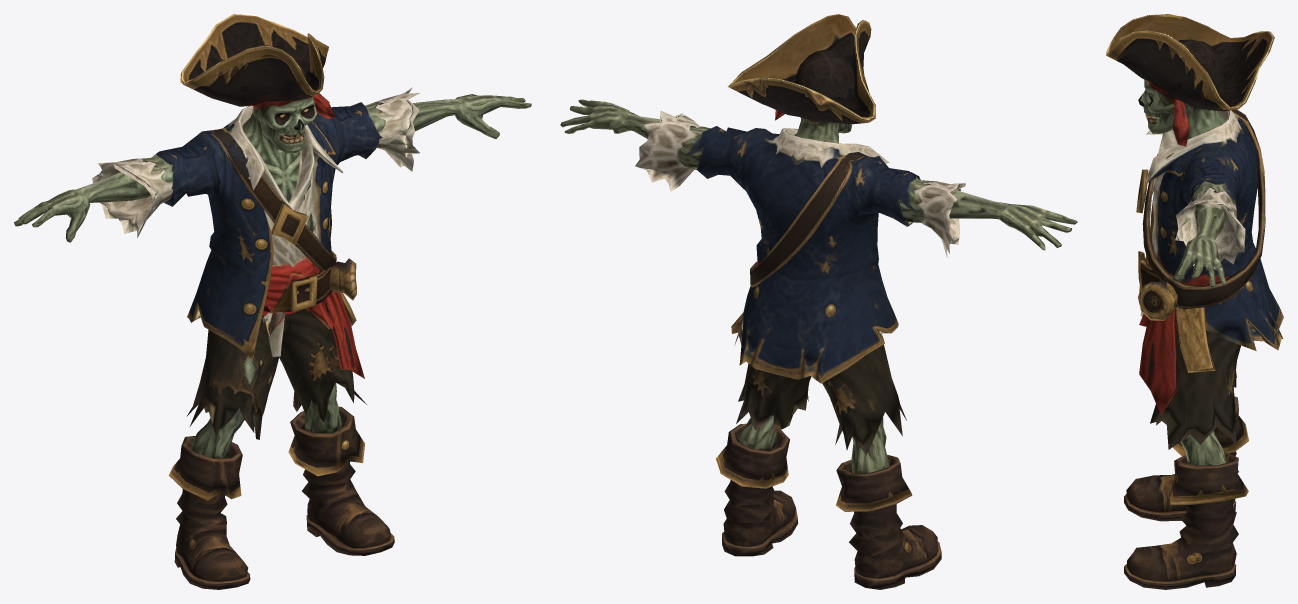
Rendered from zombie-tpose.glb.
The picture shows the model from 3 angles, left to right: view 1: azimuth 30°, elevation 25°; view 2: azimuth 150°, elevation 25°; view 3: azimuth 270°, elevation 25°; orthographic projection.
Bounding box in the file's own units: 1 × 0.9961 × 0.3076.
1 material, 1 textured.
